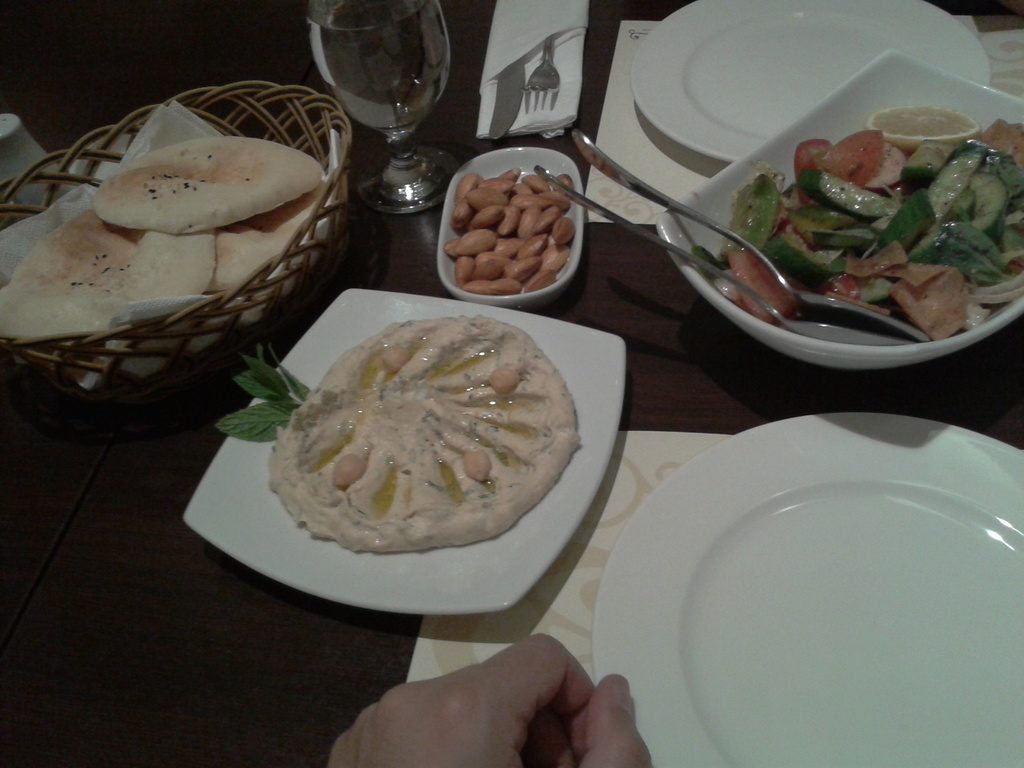salad: (699, 89, 1024, 346)
